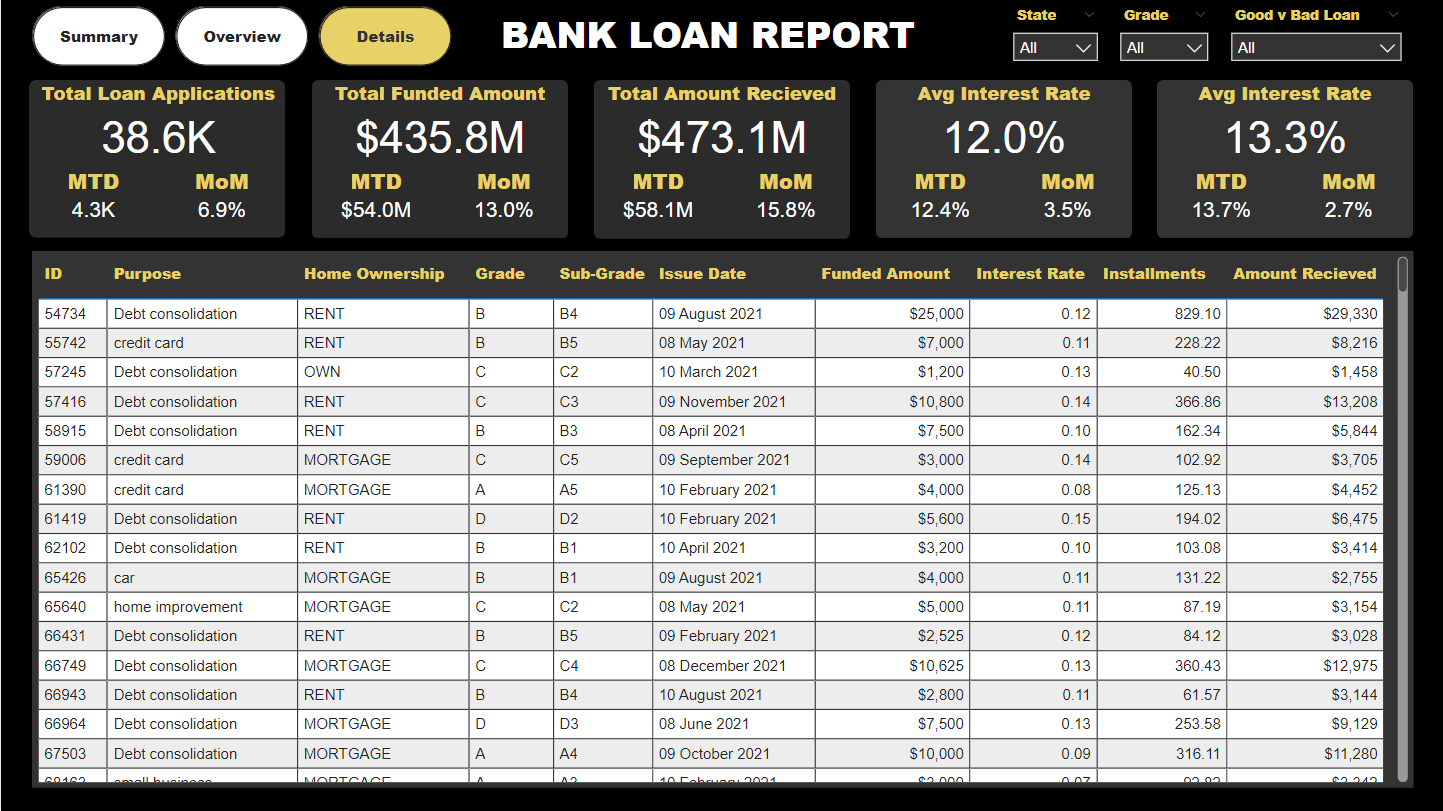

Layout of this report page (visuals, bound fields, positions):
{"tool":"powerbi","page":{"name":"Details","canvas":[1280,720],"ordinal":2},"visuals":[{"type":"group","id":"g1","title":"Group 1","box":[25.2,71.1,227.6,140.3],"z":0},{"type":"shape","box":[275.9,71.1,227,140.3],"z":0,"group":"g2"},{"type":"shape","box":[525.8,71.1,227,140.9],"z":0,"group":"g3"},{"type":"shape","box":[775.6,71.1,227,140.3],"z":0,"group":"g4"},{"type":"shape","box":[1025.4,71.1,227,140.3],"z":0,"group":"g5"},{"type":"shape","box":[25.2,71.5,227.3,140],"z":0,"group":"g1"},{"type":"card","title":"Total Loan Applications","fields":{"Values":["bank_loan_data.Total Loan Applications"]},"box":[27.1,71.1,225.7,75.9],"z":1000,"group":"g1"},{"type":"group","id":"g2","title":"Group 1","box":[275.9,71.1,226.7,140.3],"z":1000},{"type":"card","title":"Total Funded Amount","fields":{"Values":["bank_loan_data.Total Funded Amount"]},"box":[275.9,71.1,227,74.9],"z":1000,"group":"g2"},{"type":"card","title":"Total Amount Recieved","fields":{"Values":["bank_loan_data.Total Amount Recieved"]},"box":[525.8,71.1,227,75.3],"z":1000,"group":"g3"},{"type":"card","title":"Avg Interest Rate","fields":{"Values":["bank_loan_data.Average Interest Rate"]},"box":[775.6,71.1,227,74.9],"z":1000,"group":"g4"},{"type":"card","title":"Avg Interest Rate","fields":{"Values":["bank_loan_data.Avg DTI"]},"box":[1025.4,71.1,227,74.9],"z":1000,"group":"g5"},{"type":"group","id":"g3","title":"Group 1","box":[525.8,71.1,226.7,140.3],"z":2000},{"type":"card","title":"MTD","fields":{"Values":["bank_loan_data.MTD Funded Amount"]},"box":[275.9,146,113.9,54.2],"z":2000,"group":"g2"},{"type":"card","title":"MTD","fields":{"Values":["bank_loan_data.MTD Avg Interest Rate"]},"box":[775.6,146,113.9,54.2],"z":2000,"group":"g4"},{"type":"card","title":"MTD","fields":{"Values":["bank_loan_data.MTD Average DTI"]},"box":[1025.4,146,113.9,54.2],"z":2000,"group":"g5"},{"type":"card","title":"MTD","fields":{"Values":["bank_loan_data.MTD Loan Applications"]},"box":[25.2,146.2,114.1,54.1],"z":2000,"group":"g1"},{"type":"card","title":"MTD","fields":{"Values":["bank_loan_data.MTD Amount Recieved"]},"box":[525.8,146.4,113.9,54.4],"z":2000,"group":"g3"},{"type":"group","id":"g4","title":"Group 1","box":[775.6,71.1,226.7,140.3],"z":3000},{"type":"card","title":"MoM","fields":{"Values":["bank_loan_data.MoM Funded Amount"]},"box":[389.8,146,113.1,54.2],"z":3000,"group":"g2"},{"type":"card","title":"MoM","fields":{"Values":["bank_loan_data.MoM Avg Interest Rate"]},"box":[889.5,146,113.1,54.2],"z":3000,"group":"g4"},{"type":"card","title":"MoM","fields":{"Values":["bank_loan_data.MoM Avgerage DTI"]},"box":[1139.3,146,113.1,54.2],"z":3000,"group":"g5"},{"type":"card","title":"MoM","fields":{"Values":["bank_loan_data.MoM Loan Application"]},"box":[139.3,146.2,113.3,54.1],"z":3000,"group":"g1"},{"type":"card","title":"MoM","fields":{"Values":["bank_loan_data.MoM Amount Recieved"]},"box":[639.7,146.4,113.1,54.4],"z":3000,"group":"g3"},{"type":"group","id":"g5","title":"Group 1","box":[1025.4,71.1,227,140.3],"z":4000},{"type":"shape","box":[0,0,1280,57.4],"z":5000},{"type":"slicer","fields":{"Values":["bank_loan_data.address_state"]},"box":[887.6,0,94.9,57.6],"z":6000},{"type":"slicer","fields":{"Values":["bank_loan_data.Good v Bad Loan"]},"box":[1080.9,0,171.1,57.6],"z":7000},{"type":"slicer","fields":{"Values":["bank_loan_data.grade"]},"box":[982.5,0,98.4,57.6],"z":8000},{"type":"tableEx","fields":{"Values":["bank_loan_data.id","bank_loan_data.purpose","bank_loan_data.home_ownership","bank_loan_data.grade","bank_loan_data.sub_grade","bank_loan_data.issue_date","bank_loan_data.Total Funded Amount","Sum(bank_loan_data.int_rate)","Sum(bank_loan_data.installment)","bank_loan_data.Total Amount Recieved"]},"box":[27.5,222.6,1225.4,476.2],"z":9000},{"type":"pageNavigator","box":[27.5,5.3,371.5,52.3],"z":10000},{"type":"pageNavigator","box":[28.4,6.2,371.5,52.3],"z":11000},{"type":"textbox","box":[425.6,8,402.6,49.7],"z":12000}]}

Visuals, with their boxes in screenshot pixels (x1, y1, x2, y2), scaled from the page's 1280x720 canvas onto the 1443x811 screenshot:
"Group 1" group: (28,80,285,238)
shape: (311,80,567,238)
shape: (593,80,849,239)
shape: (874,80,1130,238)
shape: (1156,80,1412,238)
shape: (28,81,285,238)
"Total Loan Applications" card: (31,80,285,166)
"Group 1" group: (311,80,567,238)
"Total Funded Amount" card: (311,80,567,164)
"Total Amount Recieved" card: (593,80,849,165)
"Avg Interest Rate" card: (874,80,1130,164)
"Avg Interest Rate" card: (1156,80,1412,164)
"Group 1" group: (593,80,848,238)
"MTD" card: (311,164,439,226)
"MTD" card: (874,164,1003,226)
"MTD" card: (1156,164,1284,226)
"MTD" card: (28,165,157,226)
"MTD" card: (593,165,721,226)
"Group 1" group: (874,80,1130,238)
"MoM" card: (439,164,567,226)
"MoM" card: (1003,164,1130,226)
"MoM" card: (1284,164,1412,226)
"MoM" card: (157,165,285,226)
"MoM" card: (721,165,849,226)
"Group 1" group: (1156,80,1412,238)
shape: (0,0,1442,65)
slicer - bank_loan_data.address_state: (1001,0,1108,65)
slicer - bank_loan_data.Good v Bad Loan: (1219,0,1411,65)
slicer - bank_loan_data.grade: (1108,0,1219,65)
tableEx - bank_loan_data.id x bank_loan_data.purpose: (31,251,1412,787)
pageNavigator: (31,6,450,65)
pageNavigator: (32,7,451,66)
textbox: (480,9,934,65)
